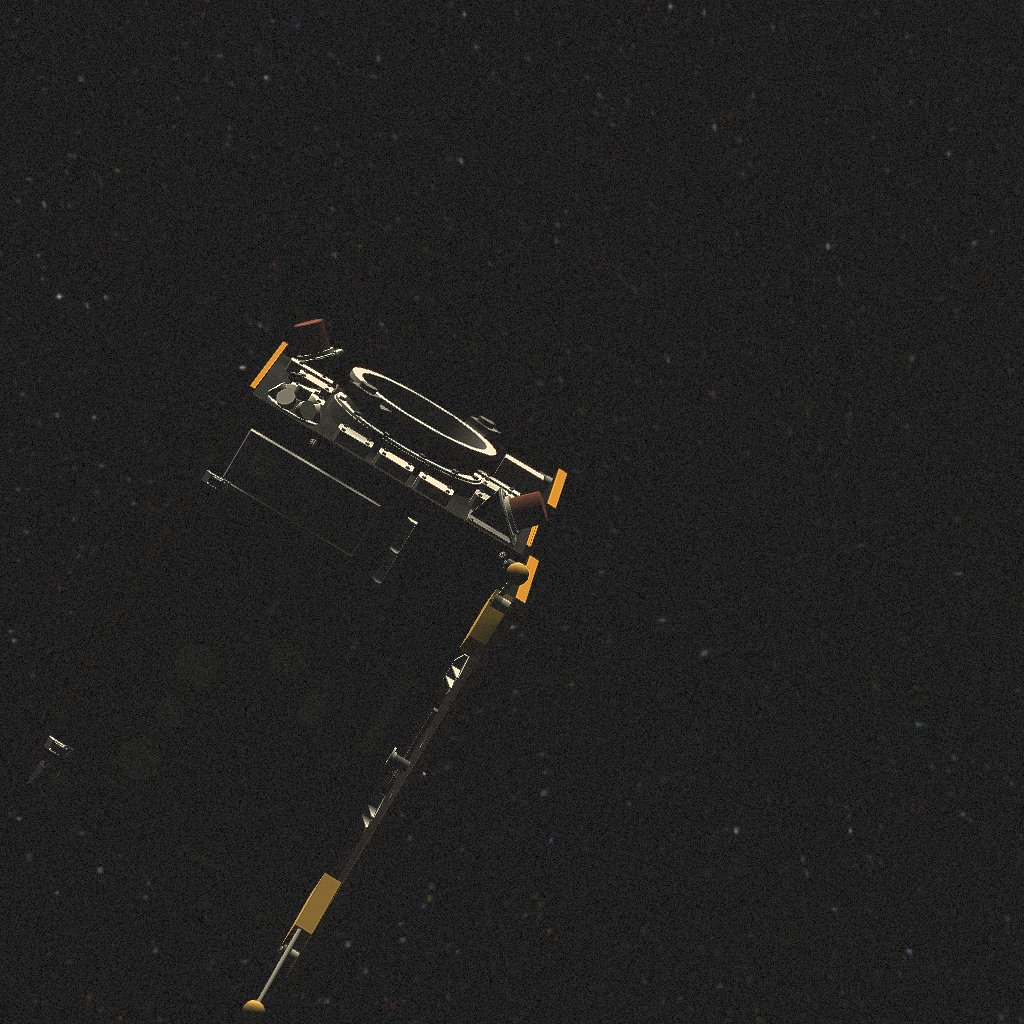proba_2: (24, 319, 567, 1024)
